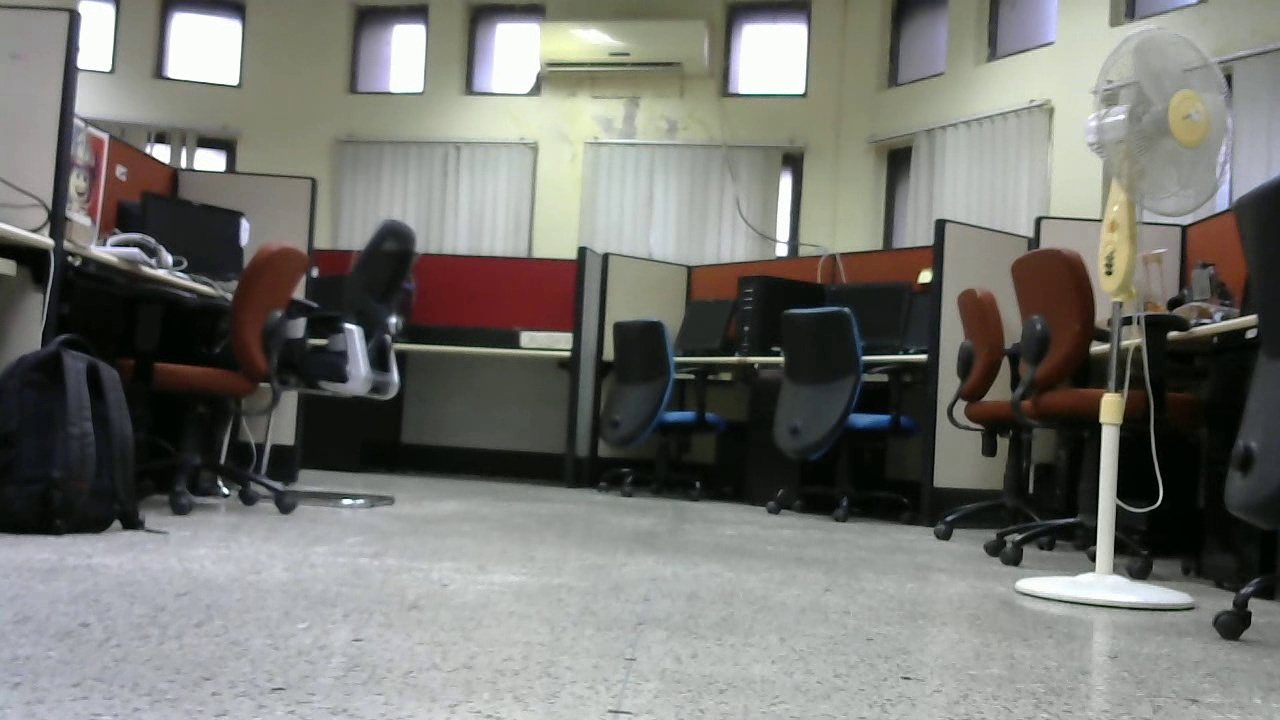chair: (1004, 252, 1167, 574), (123, 248, 292, 514), (756, 303, 917, 521), (305, 220, 423, 507), (944, 286, 1058, 548), (590, 316, 729, 502)
